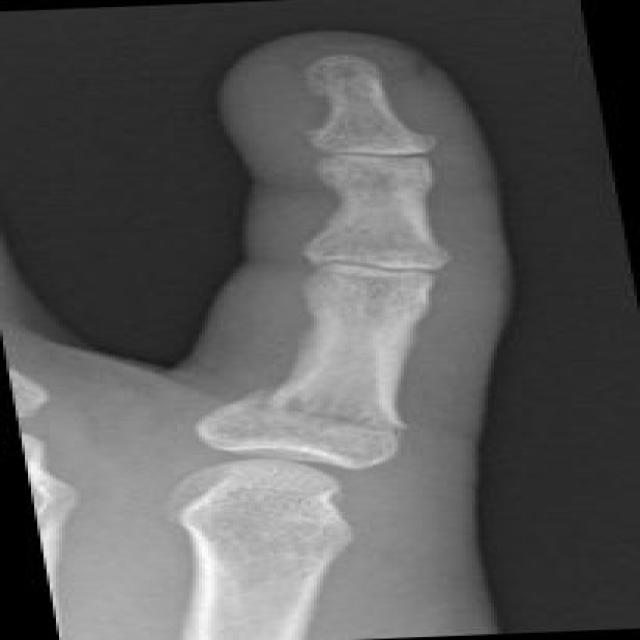Transverse Displaced: (219, 378, 434, 446)
